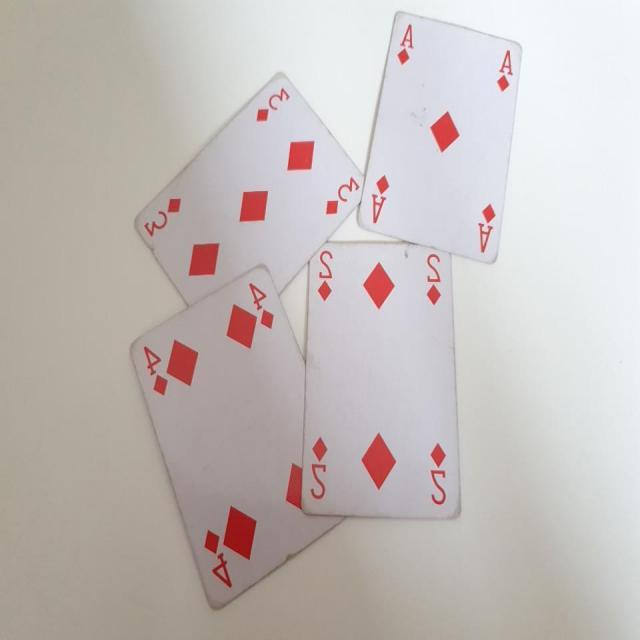2 of diamonds: (301, 235, 473, 518)
3 of diamonds: (134, 70, 371, 310)
4 of diamonds: (130, 266, 338, 618)
ace of diamonds: (356, 4, 526, 273)
